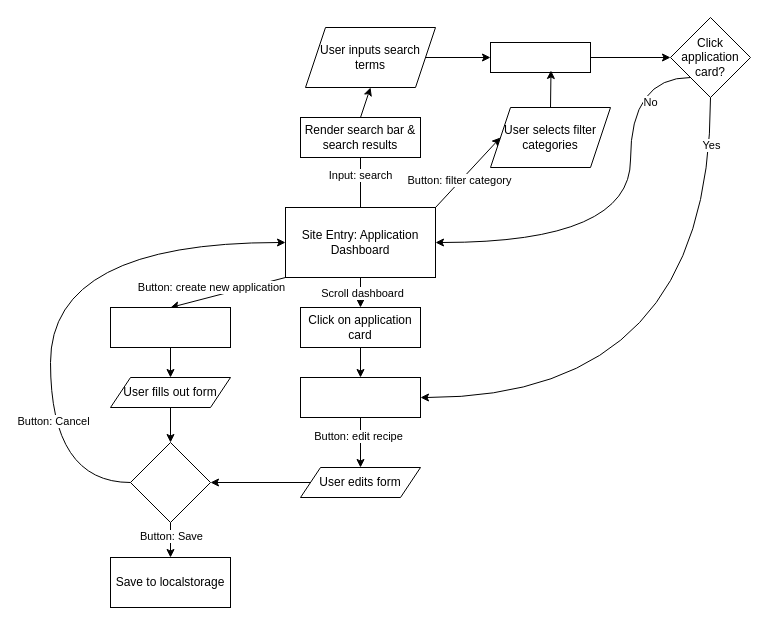
Image size: 768x625. Some labels were removed from this diagram. The shapes that lost their labels are listed below. From the top down, each one's centre as x and y in pixels, then its label:
At [540,57]: "Real-time filtering".
At [170,327]: "Render application form".
At [360,397]: "Render application card".
At [170,482]: "Save Changes?".
